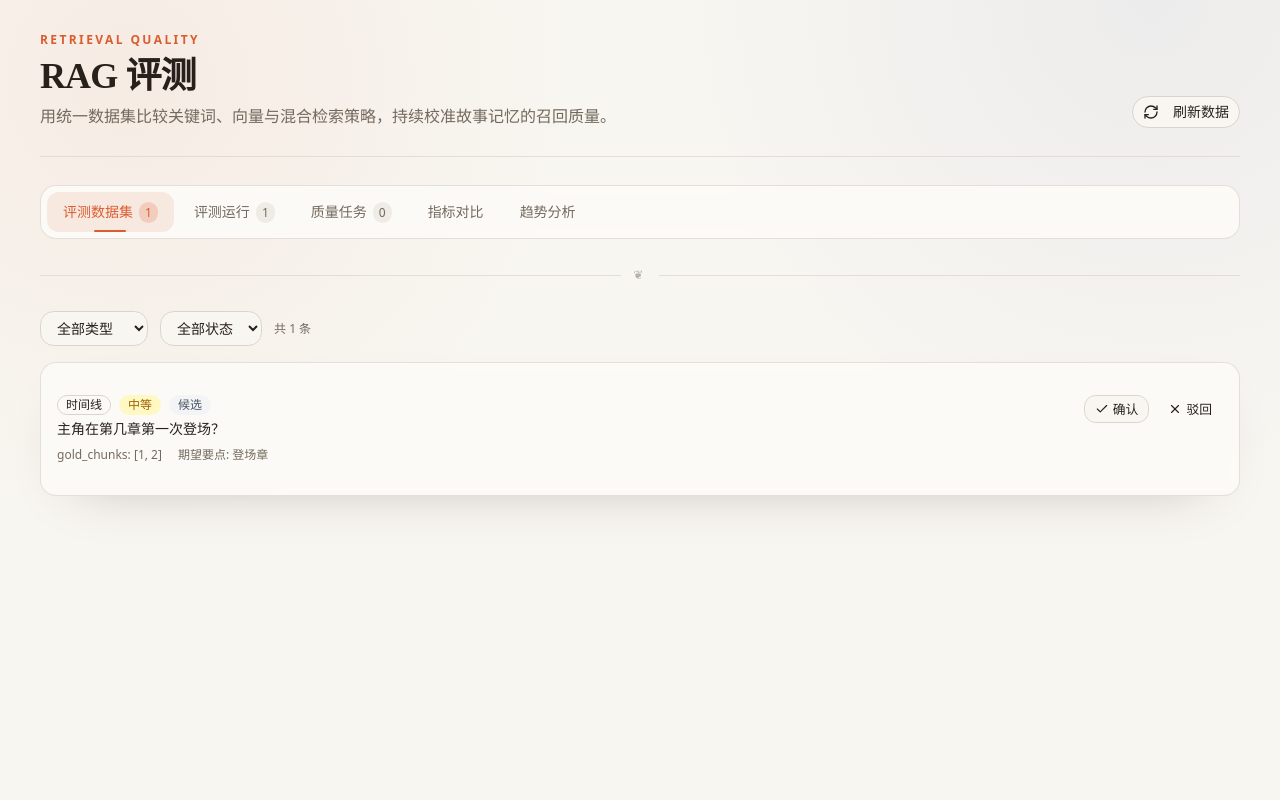
Test: EvalPage main › 加载完成后渲染数据集面板与筛选
The image size is (1280, 800).
Expected: the heading "RAG 评测" is shown, [40, 56, 196, 96]
Expected: the button "评测数据集1" is shown, [47, 192, 174, 232]
Select "原文定位" in the 1st dropdown: (94, 328) [40, 311, 148, 346]
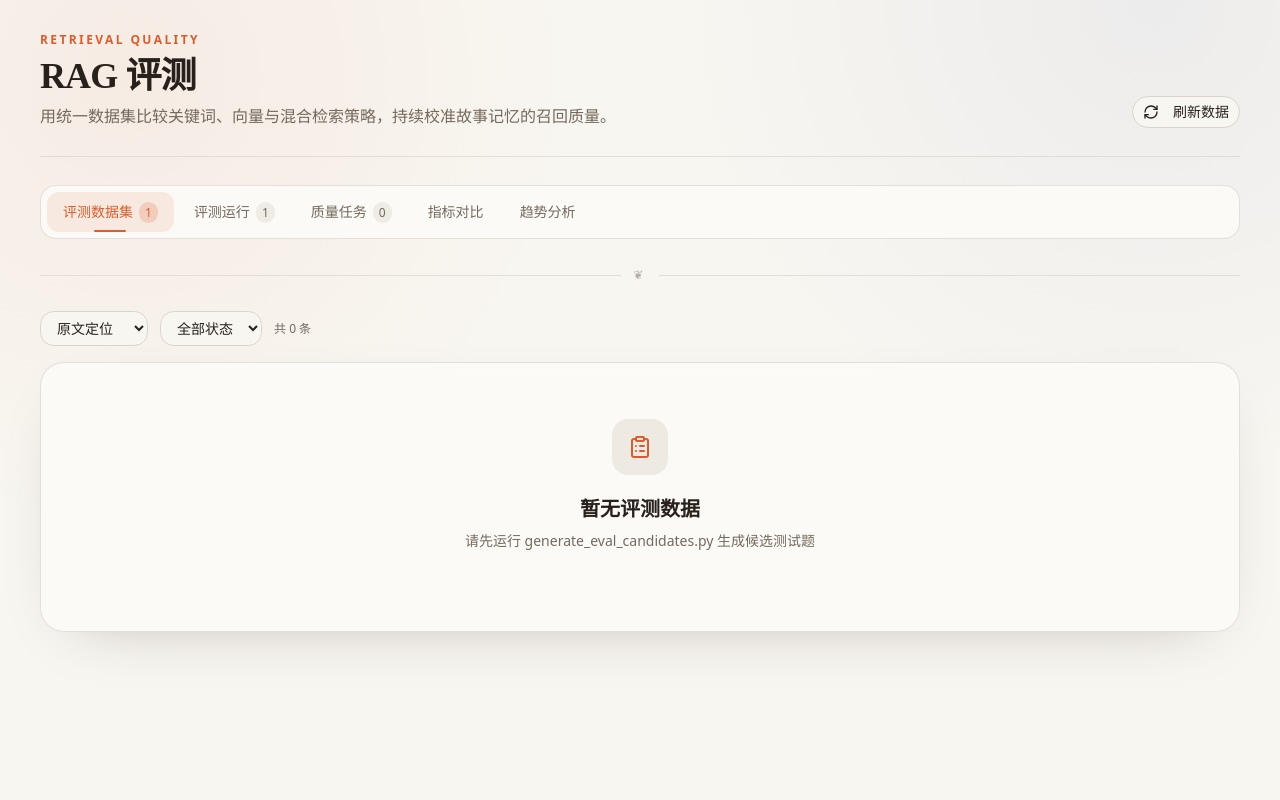
Expected: the text "共 0 条" is shown, [274, 320, 311, 336]
